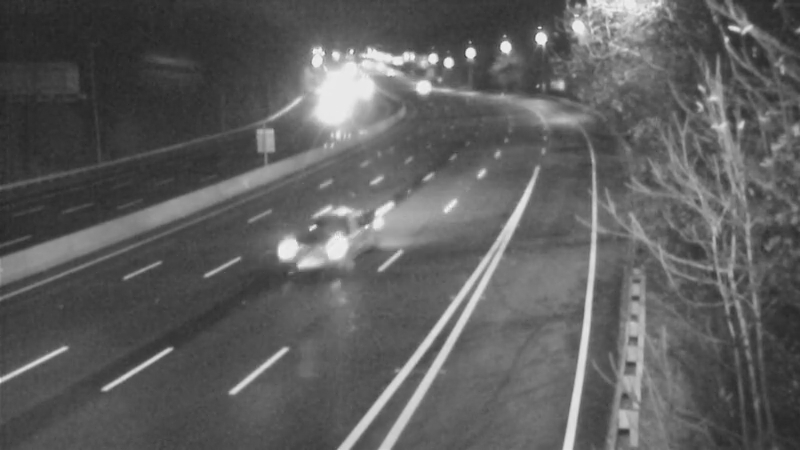vehicle: (270, 201, 350, 281), (395, 63, 445, 113), (296, 87, 346, 137)
